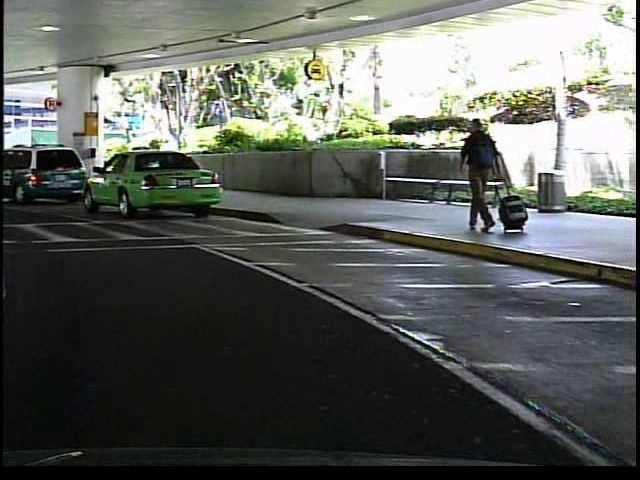person: (450, 112, 506, 244)
